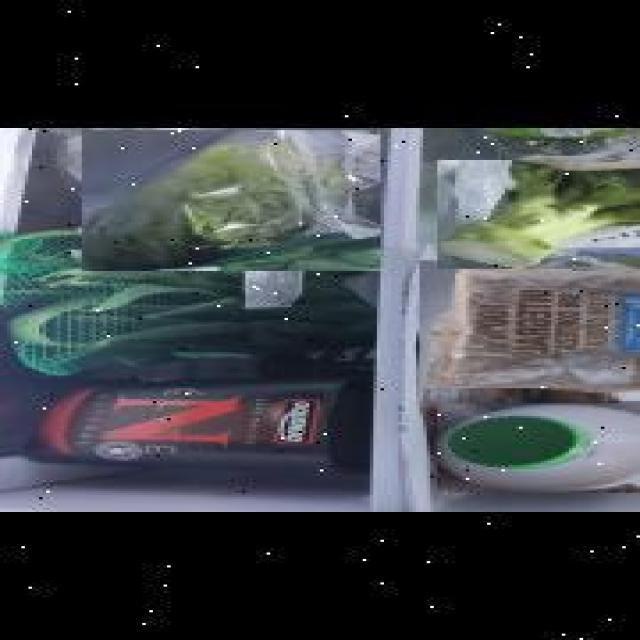bread: (416, 261, 640, 388)
broccoli: (434, 160, 640, 269)
green_beans: (0, 228, 370, 378)
milk: (434, 403, 640, 493)
salad: (77, 130, 376, 271)
